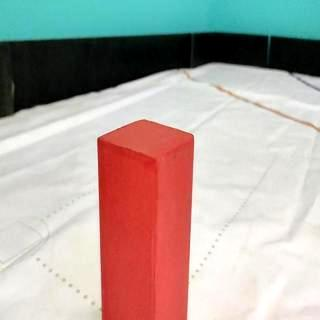redbox: (95, 117, 194, 320)
